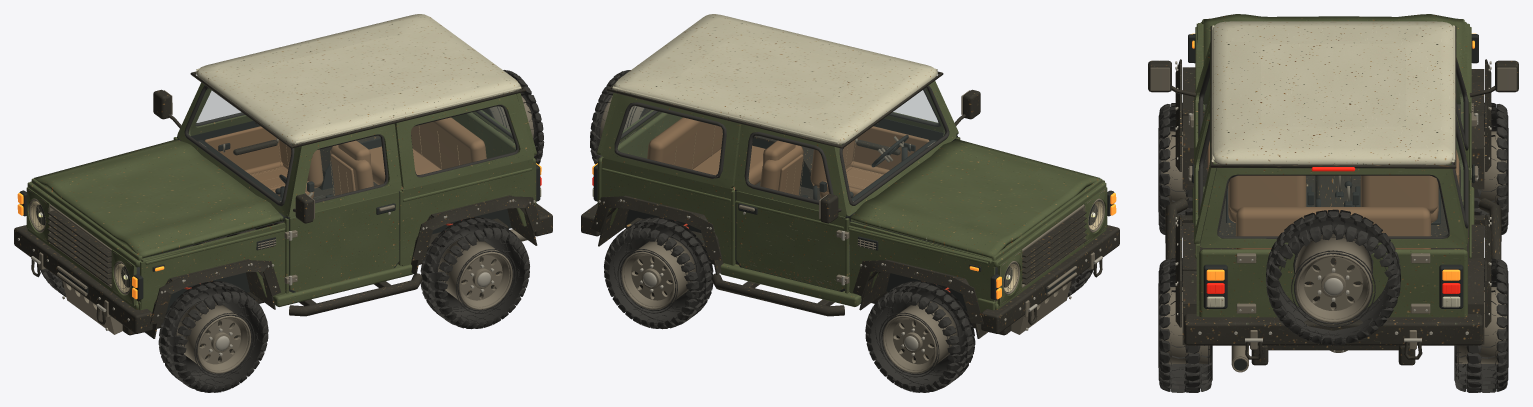
The model's file is suv.glb.
3 views of the same model, side by side, from view 1: azimuth 30°, elevation 25°; view 2: azimuth 150°, elevation 25°; view 3: azimuth 270°, elevation 25° (orthographic). The views are drawn at different scales.
Visible parts, largest first — view 1: object 54, object 195, object 4, object 73, Wheel tire steel rim front_L, Wheel tire steel rim rear_L, object 1, Inner door tan card.001, Full size spare wheel, Driver upholstered seat back, Driver seat back center panel, Passenger seat center cushion; view 2: object 54, object 195, object 73, object 4, Wheel tire steel rim front_R, Wheel tire steel rim rear_R, object 1, Inner door tan card, Full size spare wheel, Passenger upholstered seat back, Passenger seat back center panel, Driver seat center cushion; view 3: object 195, object 4, object 54, object 73, Full size spare wheel, Wheel tire steel rim rear_R, Wheel tire steel rim rear_L, object 1, Wheel tire steel rim front_R, Wheel tire steel rim front_L, Driver upholstered seat back, Passenger upholstered seat back (+1 smaller).
Boxes of the visible parts, box(x1,y1,x2,y2) form: object 54: box(17, 82, 540, 330); object 195: box(31, 14, 541, 291); object 4: box(14, 71, 552, 338); object 73: box(184, 85, 518, 206); Wheel tire steel rim front_L: box(158, 281, 268, 392); Wheel tire steel rim rear_L: box(420, 217, 529, 329); object 1: box(17, 90, 541, 334); Inner door tan card.001: box(204, 126, 281, 169); Full size spare wheel: box(472, 70, 544, 164); Driver upholstered seat back: box(330, 145, 373, 190); Driver seat back center panel: box(330, 154, 355, 195); Passenger seat center cushion: box(251, 167, 287, 189); object 54: box(593, 81, 1116, 330); object 195: box(592, 14, 1102, 291); object 73: box(614, 85, 949, 205); object 4: box(581, 71, 1119, 338); Wheel tire steel rim front_R: box(865, 281, 975, 392); Wheel tire steel rim rear_R: box(604, 217, 713, 329); object 1: box(592, 90, 1116, 334); Inner door tan card: box(852, 126, 929, 169); Full size spare wheel: box(590, 70, 661, 164); Passenger upholstered seat back: box(760, 145, 803, 190); Passenger seat back center panel: box(778, 154, 803, 195); Driver seat center cushion: box(846, 167, 882, 189); object 195: box(1206, 21, 1460, 307); object 4: box(1148, 26, 1518, 365); object 54: box(1175, 14, 1491, 370); object 73: box(1198, 57, 1468, 238); Full size spare wheel: box(1266, 209, 1400, 345); Wheel tire steel rim rear_R: box(1454, 258, 1508, 392); Wheel tire steel rim rear_L: box(1158, 258, 1212, 392); object 1: box(1150, 33, 1516, 372); Wheel tire steel rim front_R: box(1474, 102, 1508, 237); Wheel tire steel rim front_L: box(1158, 102, 1192, 237); Driver upholstered seat back: box(1228, 175, 1305, 213); Passenger upholstered seat back: box(1361, 175, 1438, 213).
Size of the model in its own units: 4.24 by 1.97 by 2.47.
21 materials, 3 textured.
